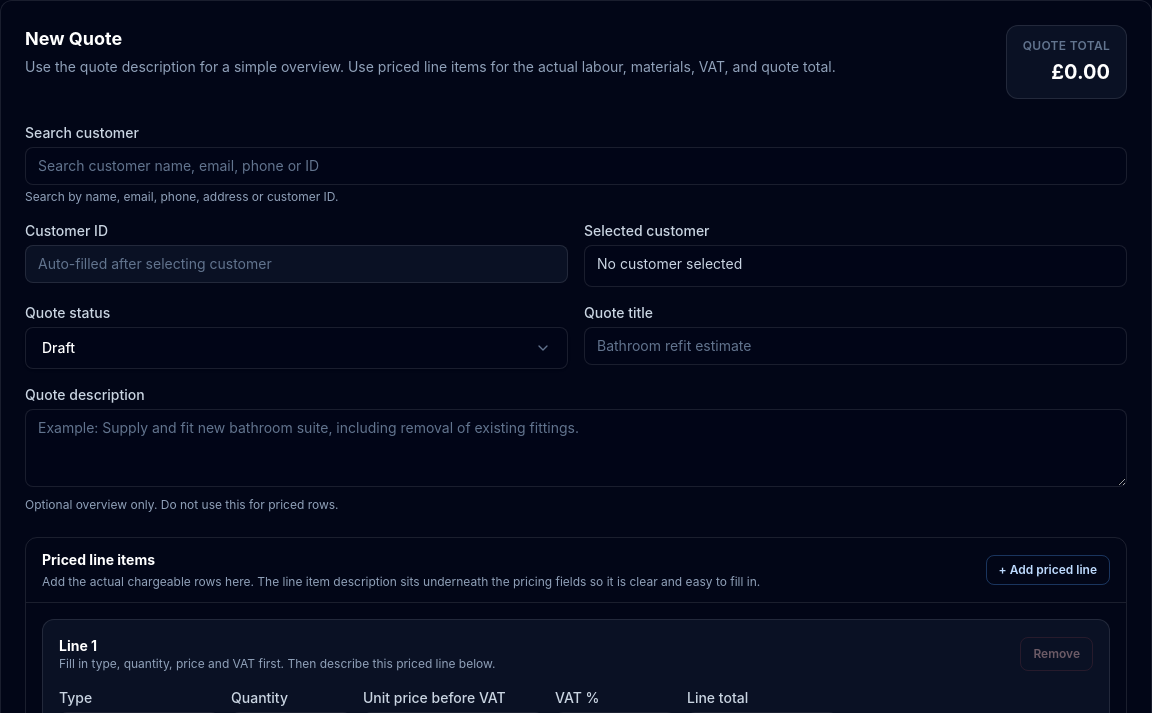
Test: NewQuoteForm › selects a customer from search results
Type "Sarah" into the field with placeholder "Search customer name, email, phone or ID" at (576, 166), box [25,147,1127,185]
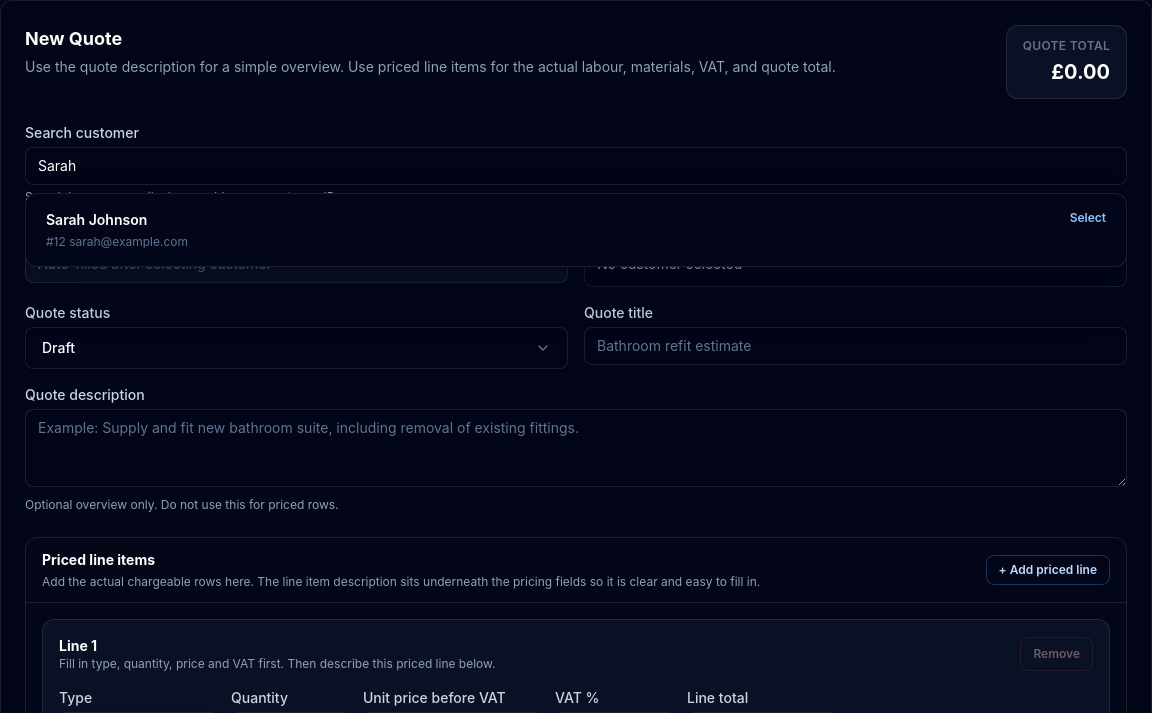
Click the button "Sarah Johnson #12 sarah@example.com Select" at (97, 220), box [30,198,1122,262]
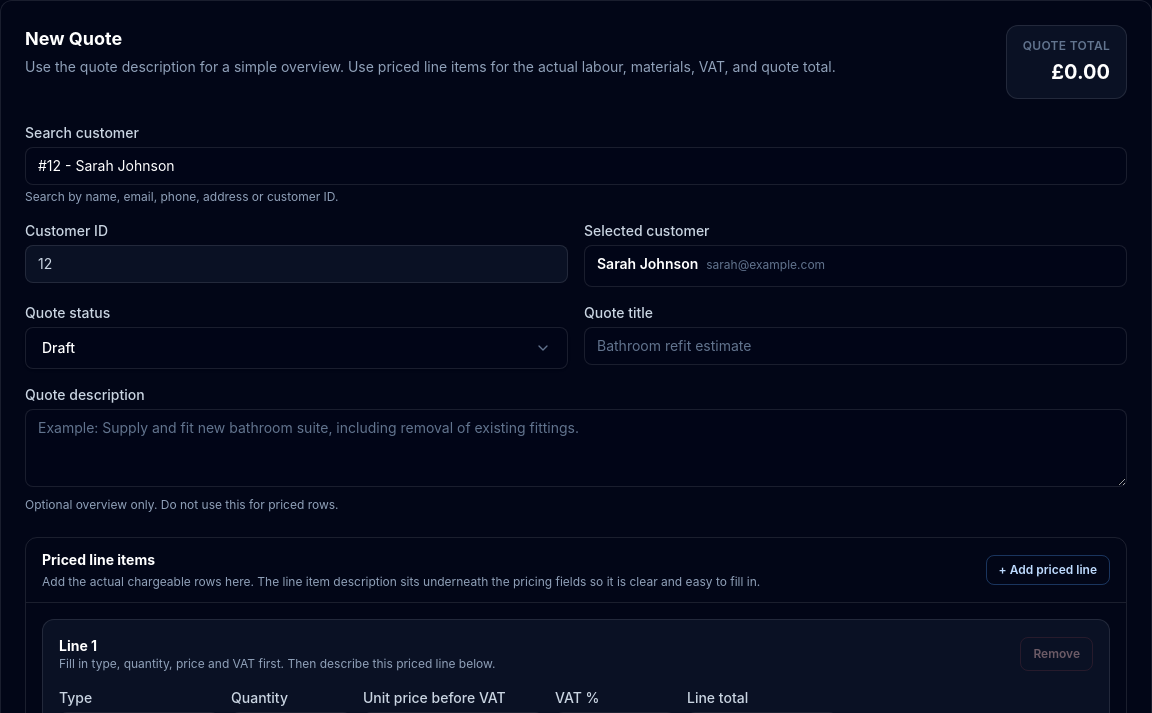
Check: the text "Sarah Johnson" is shown, box [597,255,698,272]
Check: the field showing "12" is shown, box [25,245,568,283]
